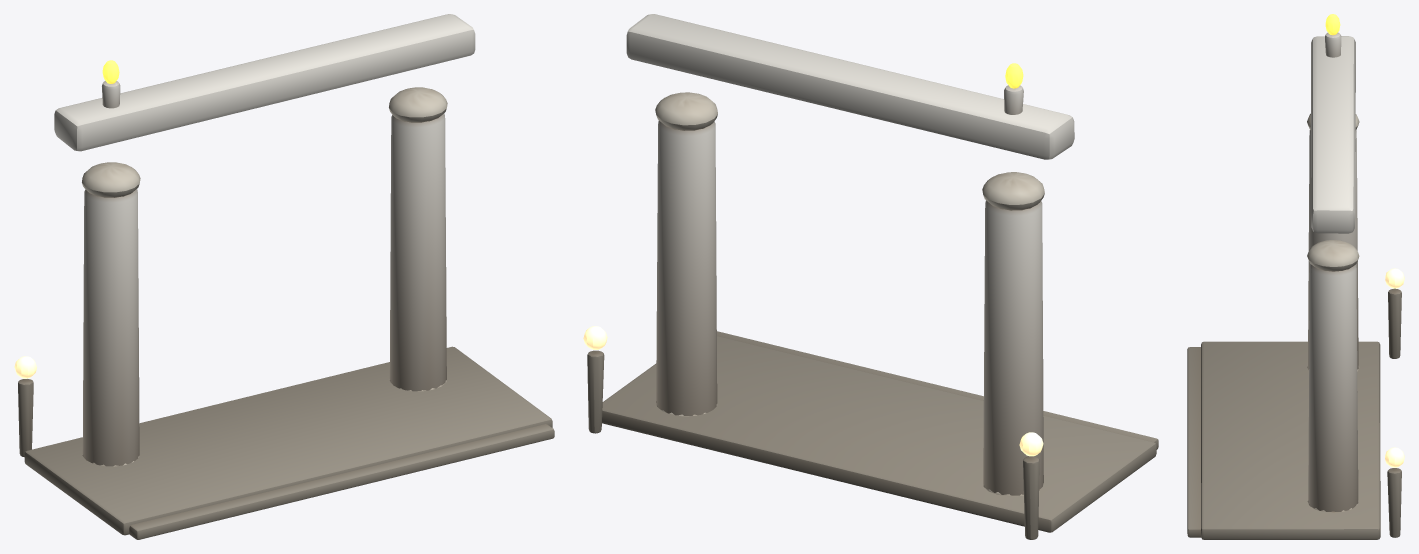
The picture shows the model from 3 angles, left to right: view 1: azimuth 30°, elevation 25°; view 2: azimuth 150°, elevation 25°; view 3: azimuth 270°, elevation 25°; orthographic projection. The views are drawn at different scales.
Visible parts, largest first — view 1: gate_a7633e30; view 2: gate_a7633e30; view 3: gate_a7633e30.
Boxes of the visible parts, left/top/right/bottom form: gate_a7633e30: left=14, top=14, right=554, bottom=539; gate_a7633e30: left=583, top=14, right=1158, bottom=539; gate_a7633e30: left=1187, top=14, right=1404, bottom=539.
Bounding box in the file's own units: 5.22 × 4.73 × 2.54.
